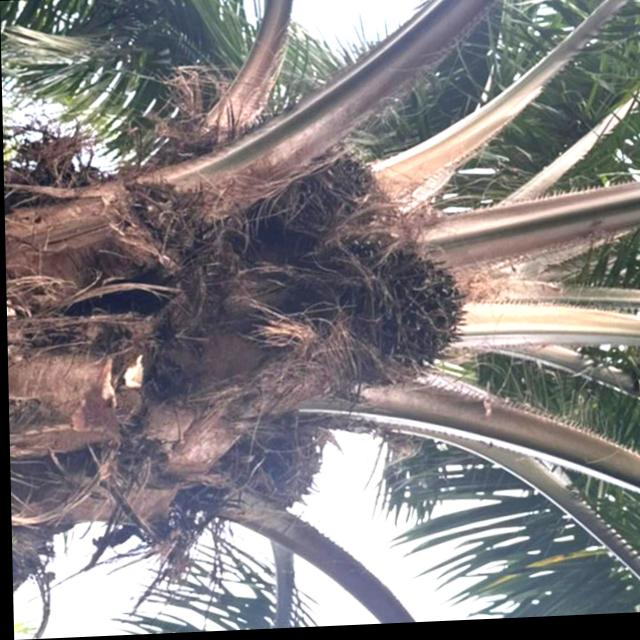unripe: (350, 227, 473, 383), (237, 407, 333, 519), (289, 143, 390, 229)
